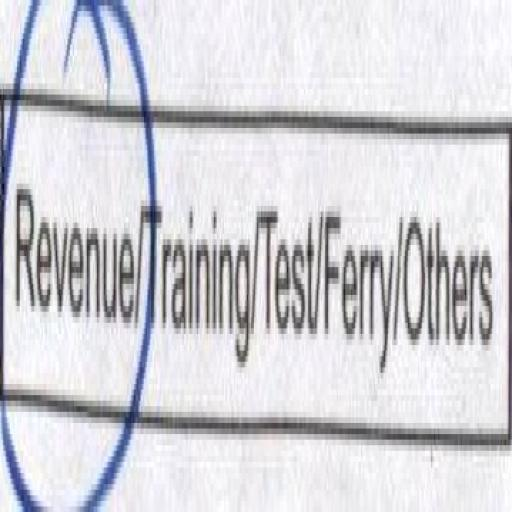check: (1, 4, 139, 512)
